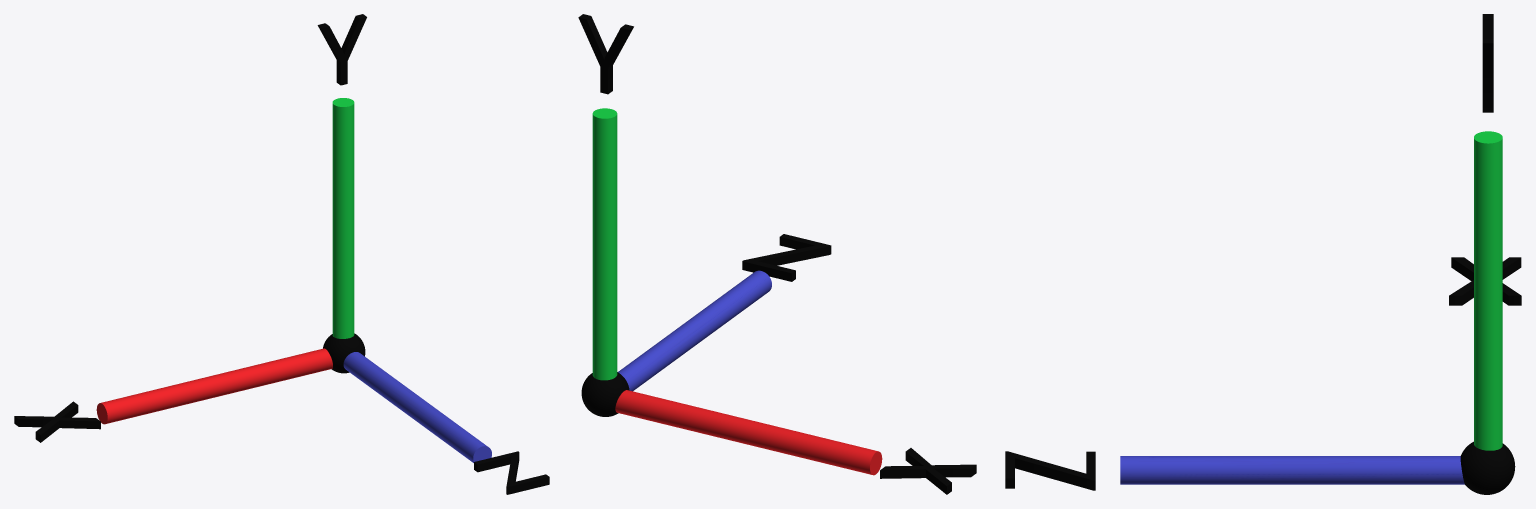
3 renders of one model, left to right at view 1: azimuth 30°, elevation 25°; view 2: azimuth 150°, elevation 25°; view 3: azimuth 270°, elevation 25°, orthographic. The views are drawn at different scales.
Visible parts, largest first — view 1: node_id6, node_id8, node_id10, node_id14, node_id16, node_id12, root; view 2: node_id6, node_id8, node_id10, node_id12, node_id14, node_id16, root; view 3: node_id10, node_id6, root, node_id12, node_id14, node_id16.
Boxes of the visible parts, x1=… form: node_id6: x1=332, y1=98, x2=354, y2=338; node_id8: x1=96, y1=348, x2=332, y2=424; node_id10: x1=343, y1=352, x2=491, y2=462; node_id14: x1=14, y1=401, x2=100, y2=442; node_id16: x1=317, y1=14, x2=366, y2=85; node_id12: x1=474, y1=451, x2=549, y2=494; root: x1=323, y1=333, x2=365, y2=373; node_id6: x1=592, y1=108, x2=617, y2=380; node_id8: x1=615, y1=390, x2=882, y2=475; node_id10: x1=618, y1=270, x2=771, y2=391; node_id12: x1=742, y1=234, x2=831, y2=281; node_id14: x1=880, y1=448, x2=976, y2=494; node_id16: x1=578, y1=14, x2=633, y2=94; root: x1=581, y1=372, x2=629, y2=416; node_id10: x1=1120, y1=456, x2=1464, y2=484; node_id6: x1=1474, y1=131, x2=1502, y2=450; root: x1=1460, y1=441, x2=1515, y2=494; node_id12: x1=1005, y1=451, x2=1095, y2=490; node_id14: x1=1449, y1=257, x2=1521, y2=305; node_id16: x1=1482, y1=14, x2=1493, y2=112.
Bounding box in the file's own units: 0.512 × 0.4994 × 0.5048.
7 materials, 4 textured.
